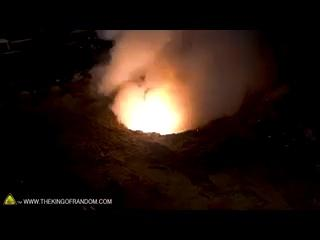Fire: (116, 56, 193, 132)
